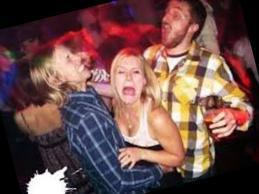Drunk: (114, 55, 145, 101), (160, 4, 194, 44), (55, 45, 90, 82)
